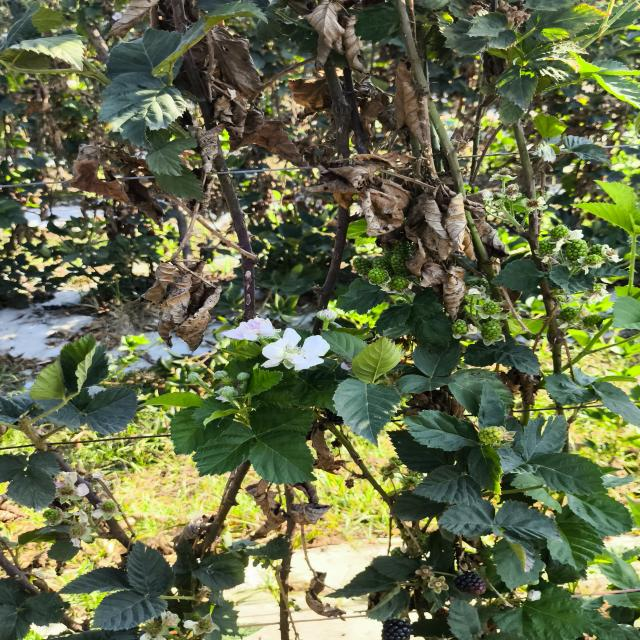boton: (216, 386, 238, 402), (316, 309, 338, 321), (187, 372, 202, 384), (213, 370, 227, 379), (237, 372, 250, 381)
flor: (262, 328, 329, 371), (222, 317, 280, 341)
maduro: (382, 618, 412, 640)
marron: (454, 572, 486, 595)
verde: (479, 426, 515, 448), (480, 319, 503, 345), (565, 239, 588, 260), (372, 252, 392, 272), (353, 256, 372, 275), (368, 268, 389, 284), (389, 276, 408, 292), (539, 238, 556, 255), (451, 320, 467, 338), (550, 224, 569, 239), (482, 300, 500, 314)
